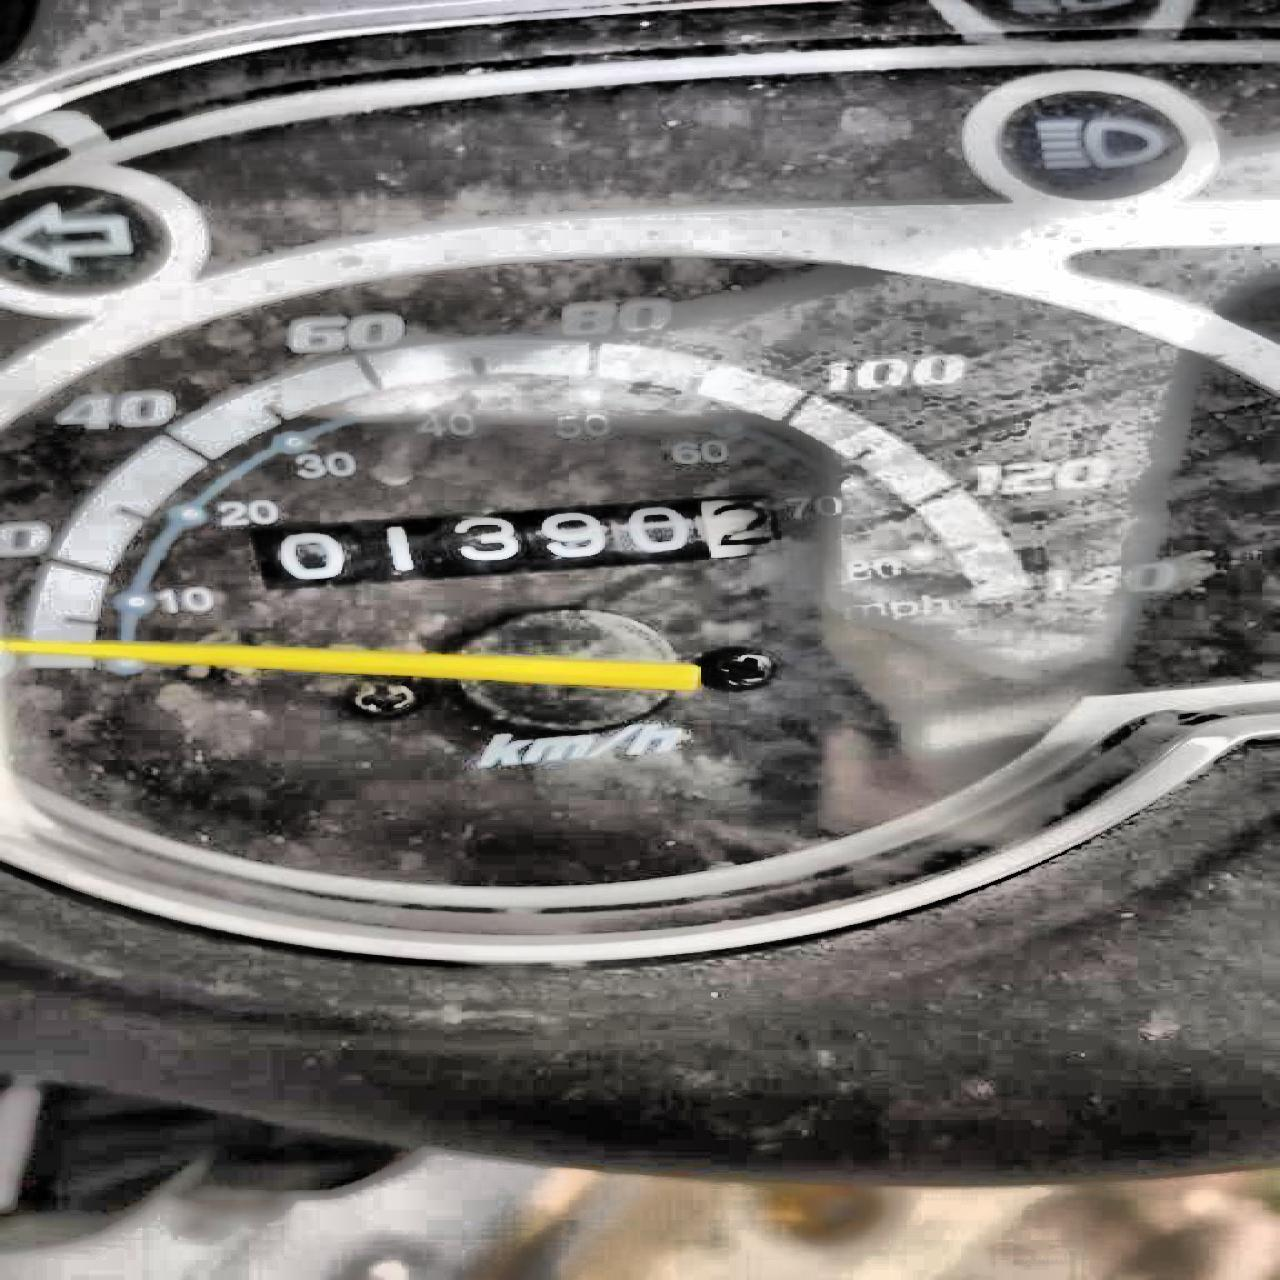0: (265, 532, 355, 581), (622, 504, 692, 551), (244, 498, 280, 526)
1: (374, 519, 422, 576)
2: (707, 499, 774, 552)
3: (451, 515, 518, 565)
9: (536, 509, 606, 561)
odometer: (243, 492, 784, 592)
